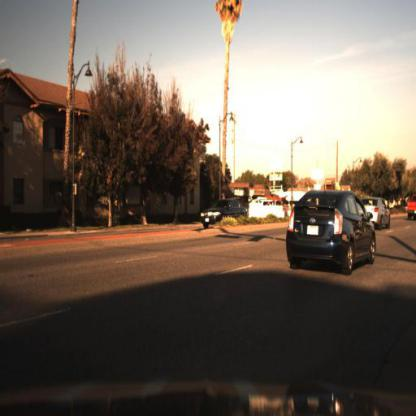car: (285, 188, 377, 279), (200, 196, 251, 231), (198, 197, 251, 229), (360, 197, 391, 233), (406, 189, 416, 224)
